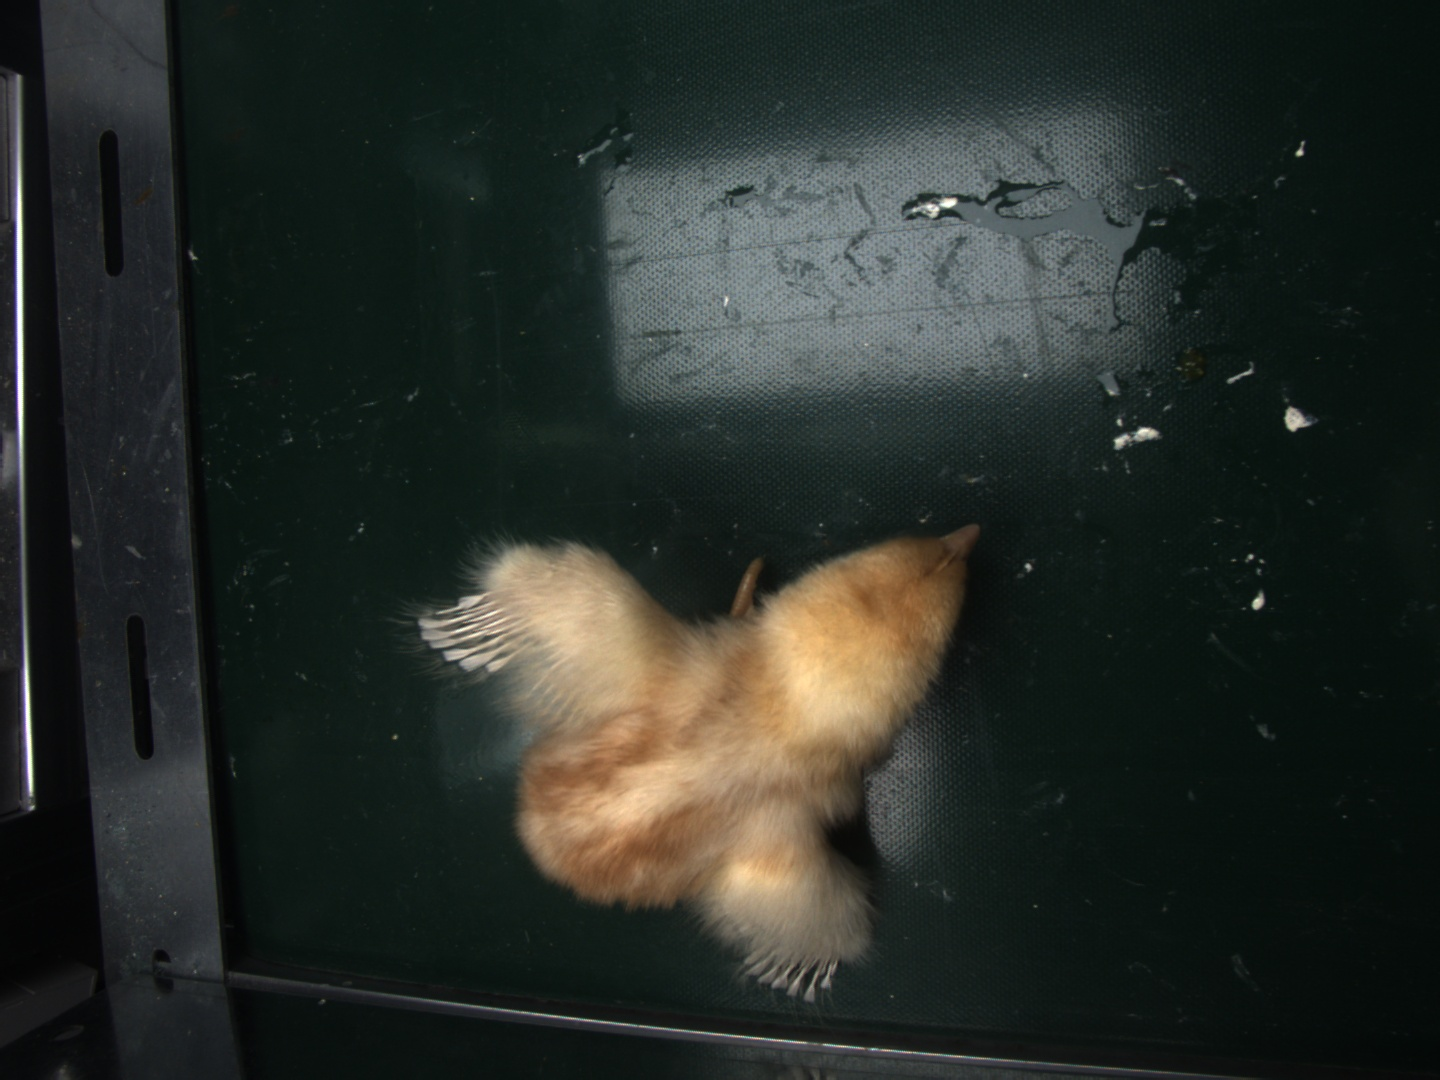female: (420, 593, 526, 674)
